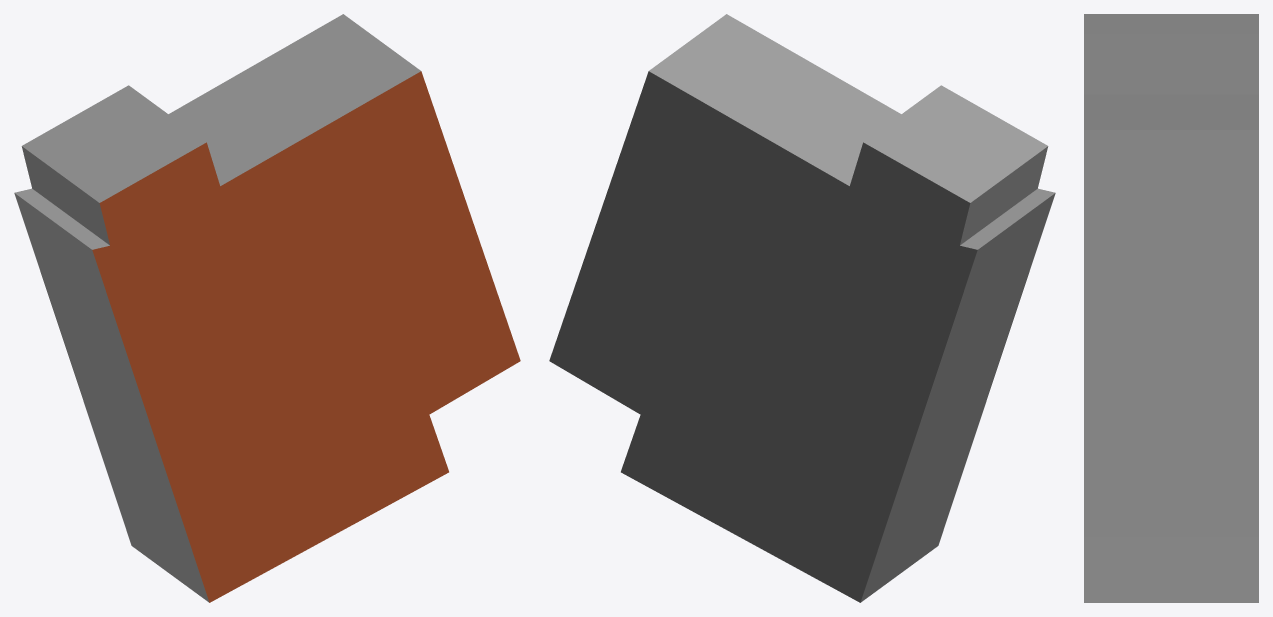
The model's file is construction_6048_assumed_A_Casa_h6m.obj.
3 views of the same model, side by side, from view 1: azimuth 30°, elevation 25°; view 2: azimuth 150°, elevation 25°; view 3: azimuth 270°, elevation 25° (orthographic). The views are drawn at different scales.
Visible parts, largest first — view 1: construction_6048_assumed_A_Casa; view 2: construction_6048_assumed_A_Casa; view 3: construction_6048_assumed_A_Casa.
Boxes of the visible parts, x1,y1,x2,y2 form: construction_6048_assumed_A_Casa: [14, 14, 520, 602]; construction_6048_assumed_A_Casa: [549, 14, 1055, 602]; construction_6048_assumed_A_Casa: [1084, 14, 1258, 602].
Size of the model in its own units: 19.03 by 20.38 by 6.
